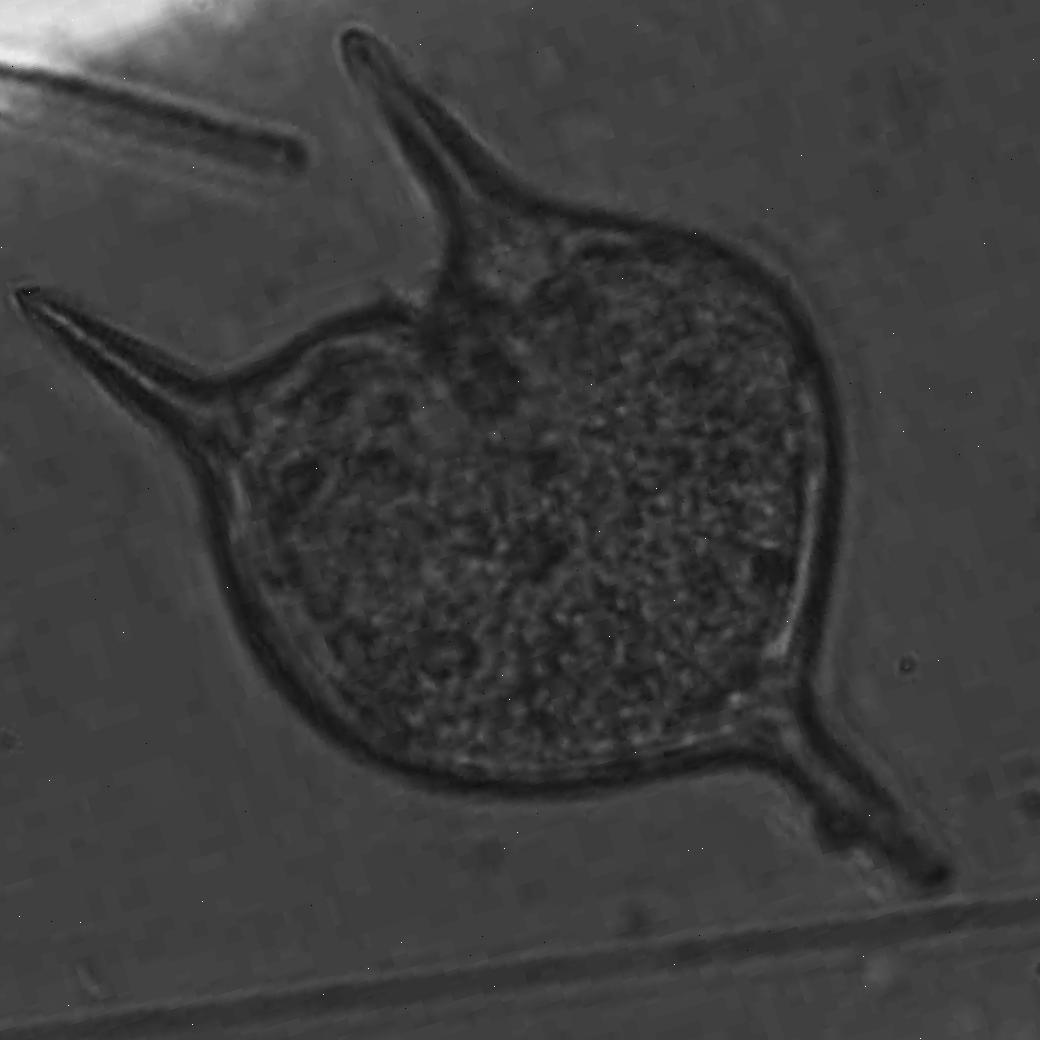protoperidinium_oceanicum: (15, 29, 946, 885)
